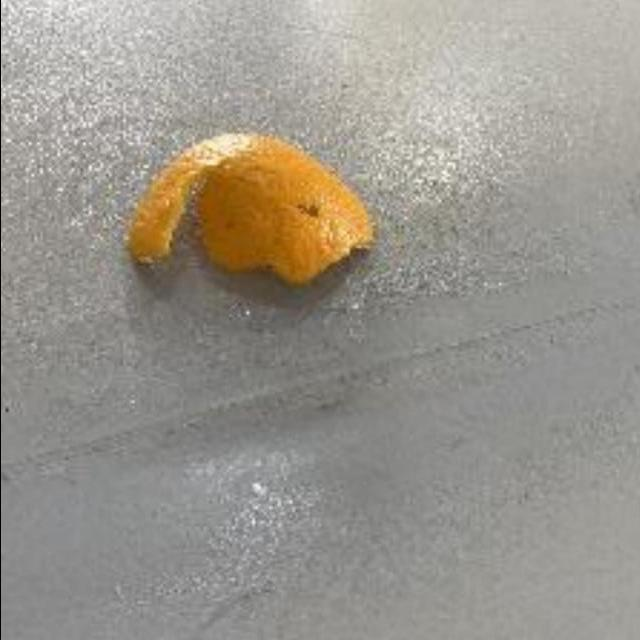orange peel: (121, 128, 376, 279)
